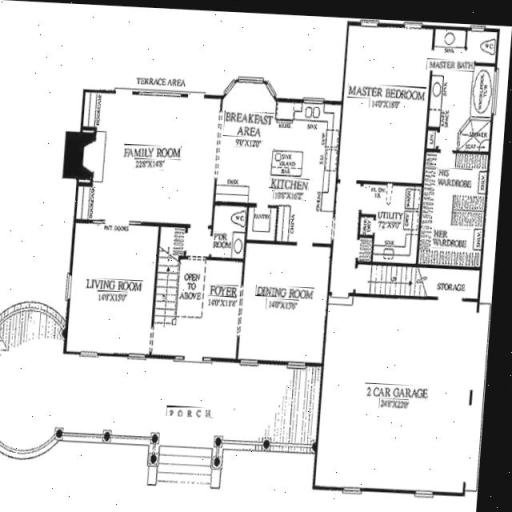Room: (100, 92, 209, 208), (248, 254, 325, 358), (82, 227, 148, 341)
bedroom: (349, 47, 425, 175)
garage: (334, 299, 468, 489)
kitchen: (221, 91, 329, 236)
porch: (18, 339, 300, 449)
